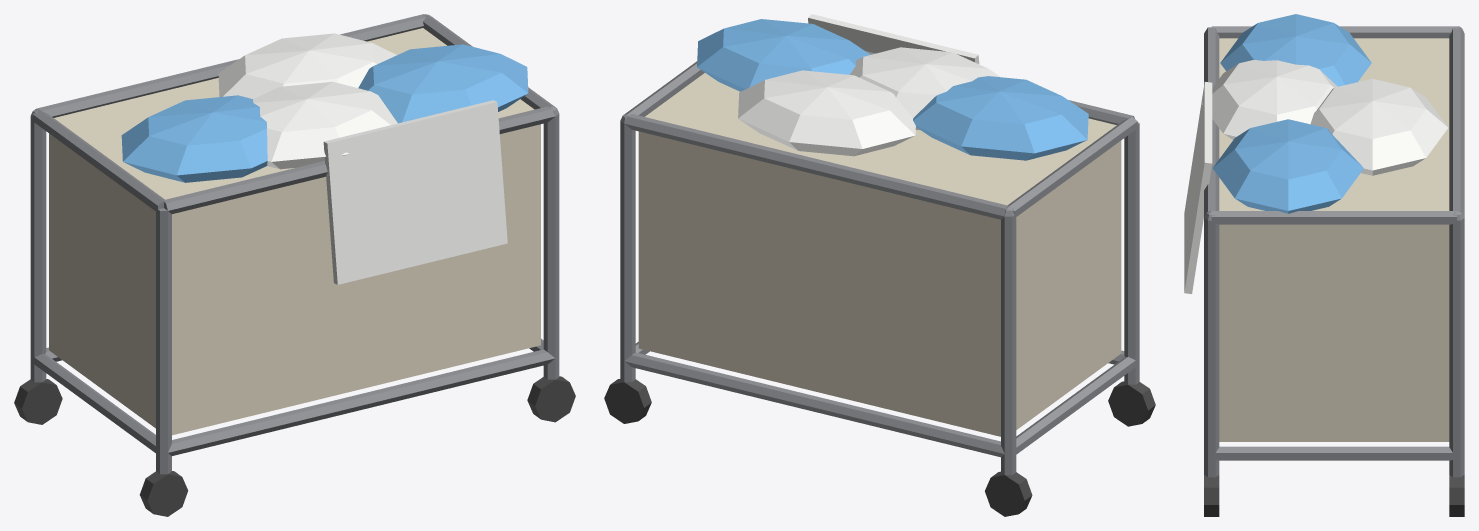
Rendered from HJ_CarroRopa.fbx.
3 renders of one model, left to right at view 1: azimuth 30°, elevation 25°; view 2: azimuth 150°, elevation 25°; view 3: azimuth 270°, elevation 25°, orthographic. The views are drawn at different scales.
Visible parts, largest first — view 1: HJ_CarroRopa; view 2: HJ_CarroRopa; view 3: HJ_CarroRopa.
Boxes of the visible parts, x1,y1,x2,y2 form: HJ_CarroRopa: [14, 14, 575, 516]; HJ_CarroRopa: [604, 14, 1155, 516]; HJ_CarroRopa: [1184, 14, 1464, 516].
Size of the model in its own units: 1.26 by 0.977 by 0.7313.
